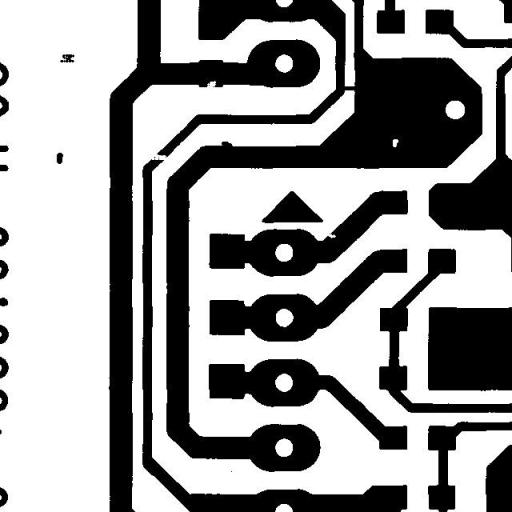copper: (52, 46, 82, 70), (49, 145, 70, 171)
mousebite: (199, 73, 223, 96), (320, 226, 343, 246)
open: (141, 146, 176, 168)
pin-hole: (384, 132, 406, 154)
short: (332, 78, 366, 98)
spur: (214, 134, 239, 154)
